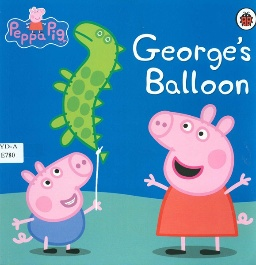Peppa: (142, 102, 252, 259)
